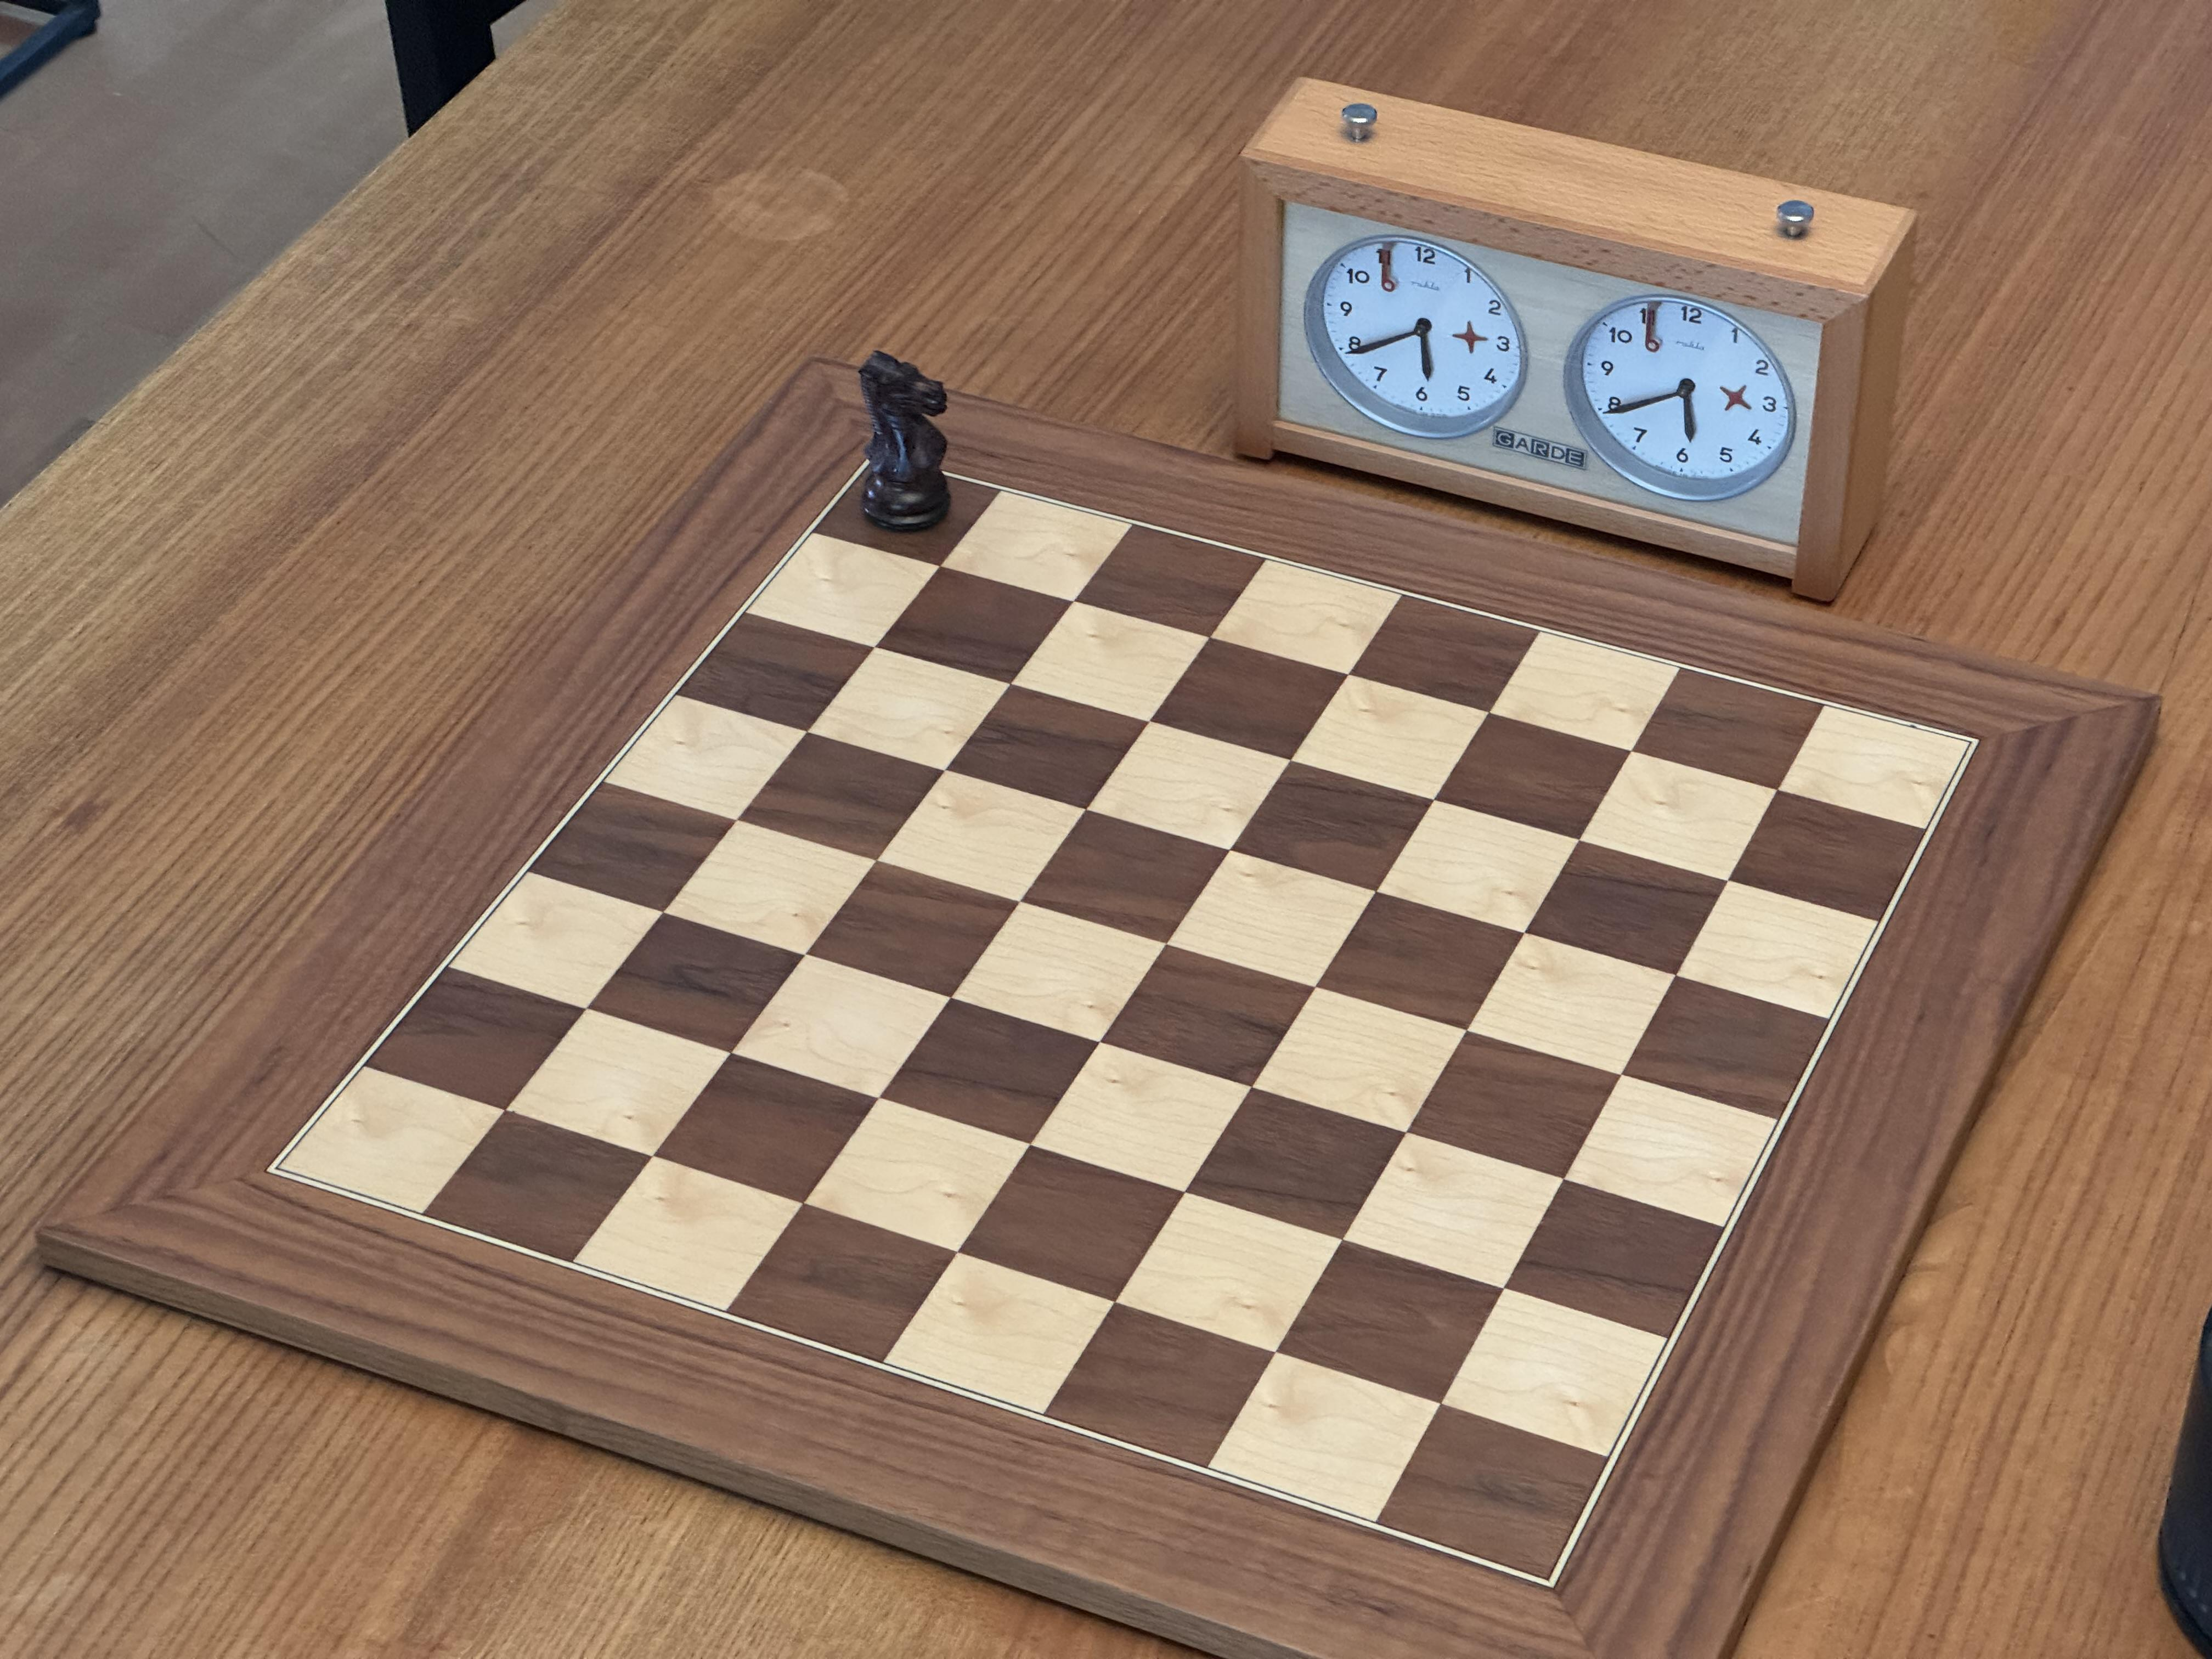Black Knight: (853, 343, 956, 538)
